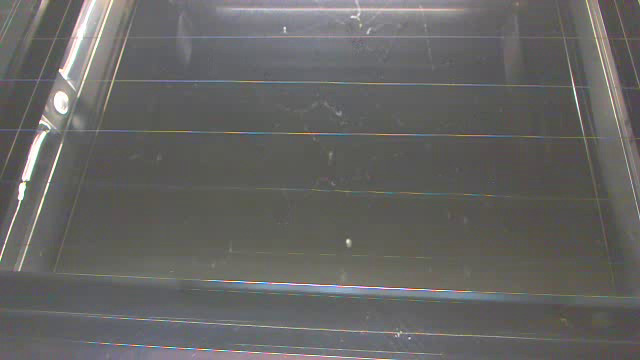alpha: (342, 233, 358, 255)
